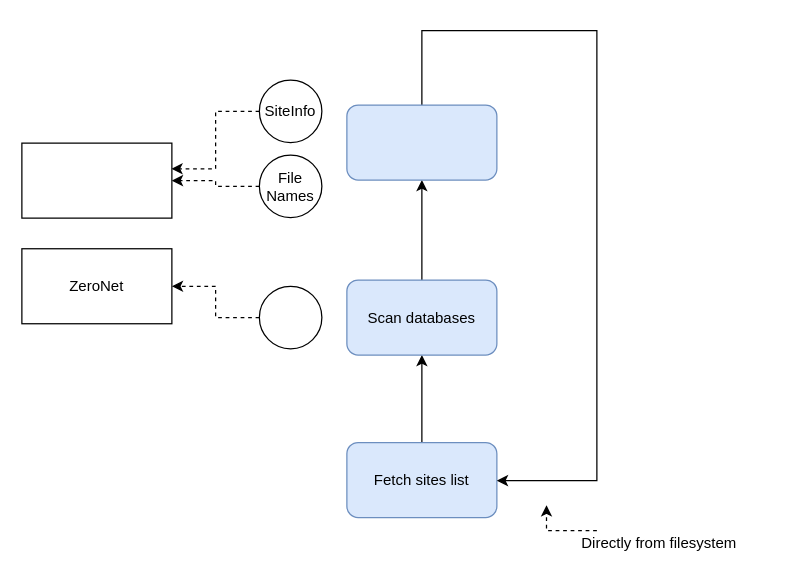
The diagram is 806 pixels wide and 578 high, and some of its shapes have lost their labels. Here are the shapes that lost their labels. From the top down, the centre of each, then its label:
(x=421, y=142): Query metadata
(x=96, y=180): Elasticsearch
(x=290, y=317): LInks
